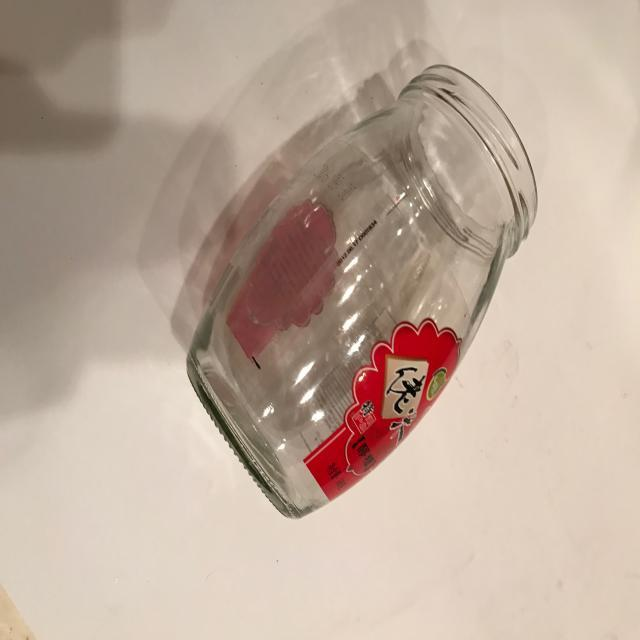glass: (185, 64, 539, 518)
